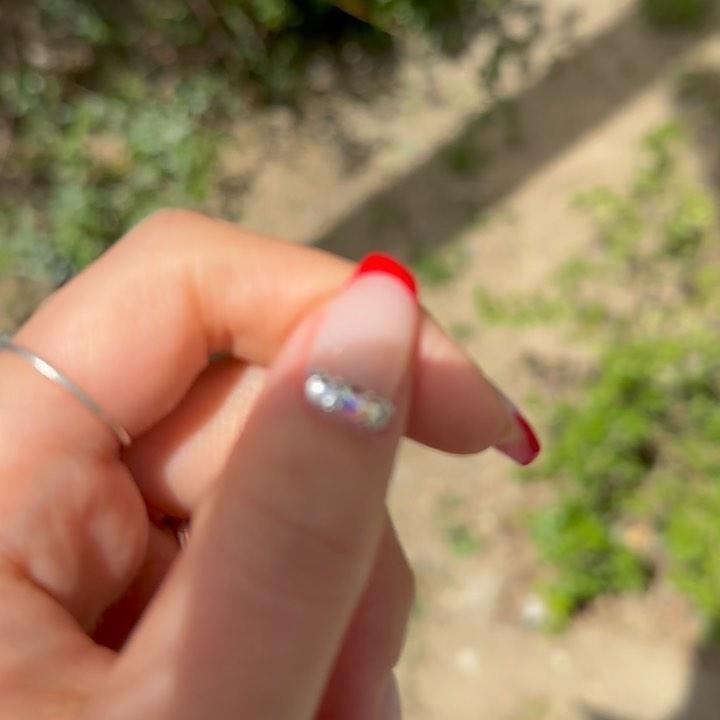nail: (304, 255, 420, 428), (496, 396, 541, 465)
